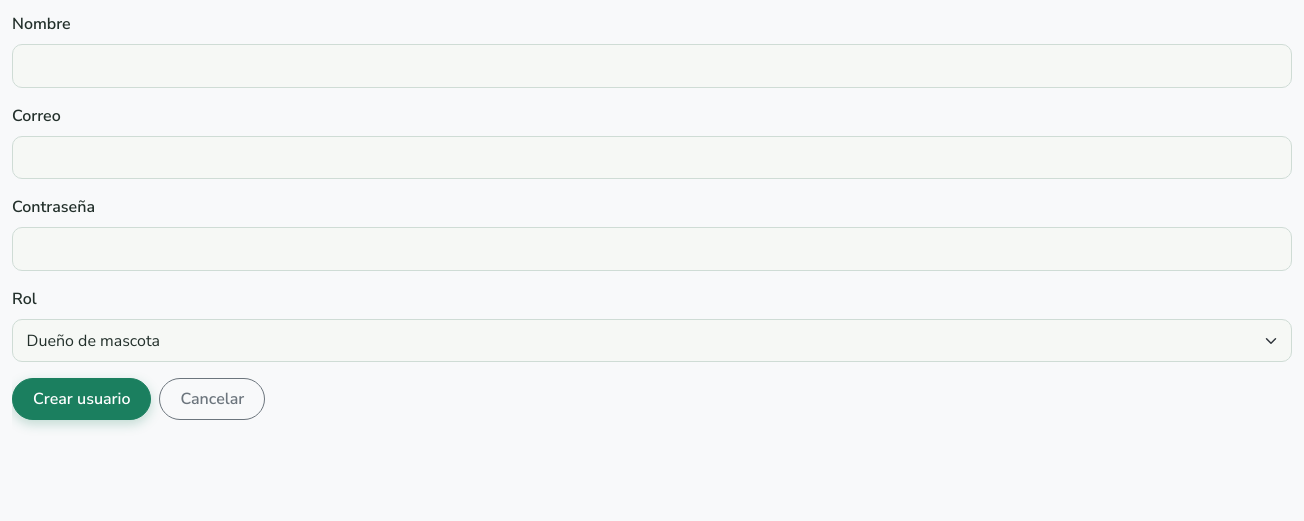
Test: FormularioUsuario › al crear, exige nombre, correo y contraseña antes de llamar a onGuardar
The image size is (1304, 521).
Click the button "Crear usuario" at (82, 399), box [12,378,152,420]
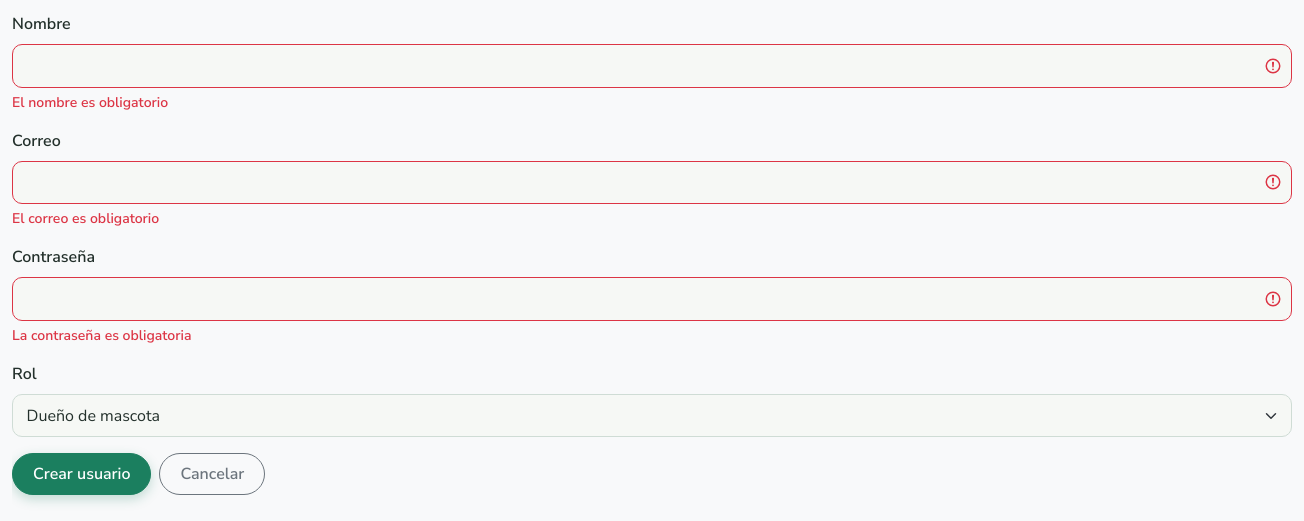
expect the text "El nombre es obligatorio" is shown: met, box [12,93,168,112]
expect the text "La contraseña es obligatoria" is shown: met, box [12,326,191,345]
